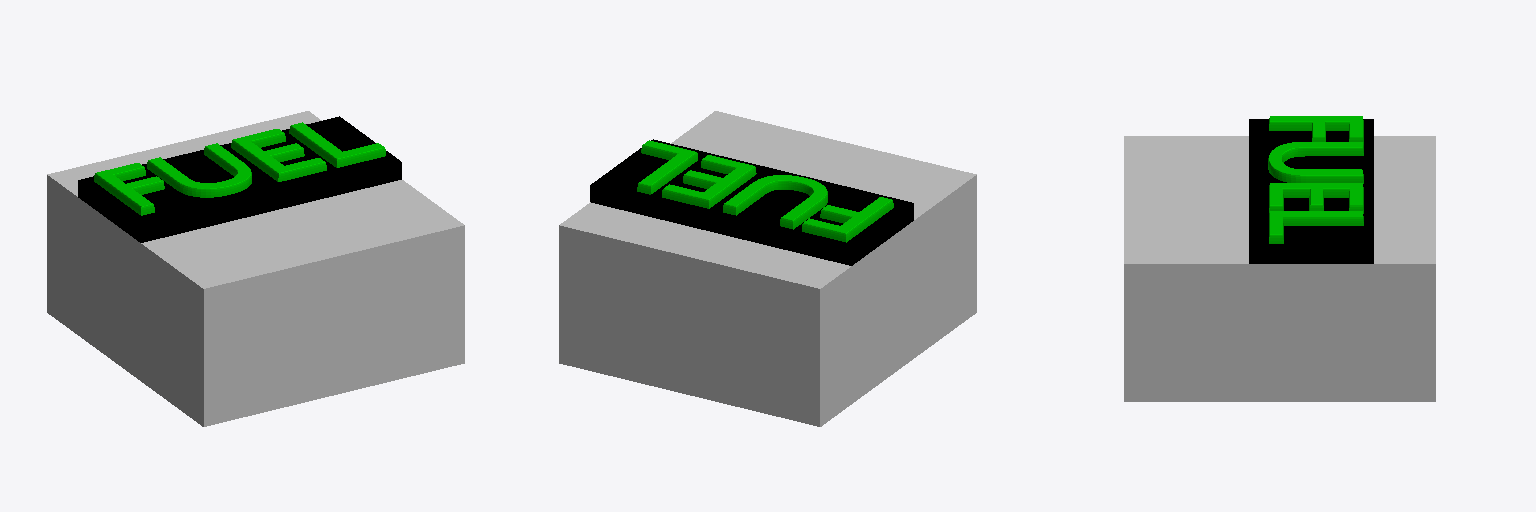
File: FuelTank.obj
3 views of the same model, side by side, from view 1: azimuth 30°, elevation 25°; view 2: azimuth 150°, elevation 25°; view 3: azimuth 270°, elevation 25° (orthographic).
Parts seen in each view (by area): view 1: Cube.002, Text; view 2: Cube.002, Text; view 3: Cube.002, Text.
Boxes of the visible parts, <box> form: Cube.002: <box>47,111,464,426</box>; Text: <box>94,122,385,215</box>; Cube.002: <box>559,111,976,426</box>; Text: <box>637,140,893,242</box>; Cube.002: <box>1124,119,1435,401</box>; Text: <box>1268,116,1363,243</box>.
Size of the model in its own units: 2.93 by 1.76 by 3.04.